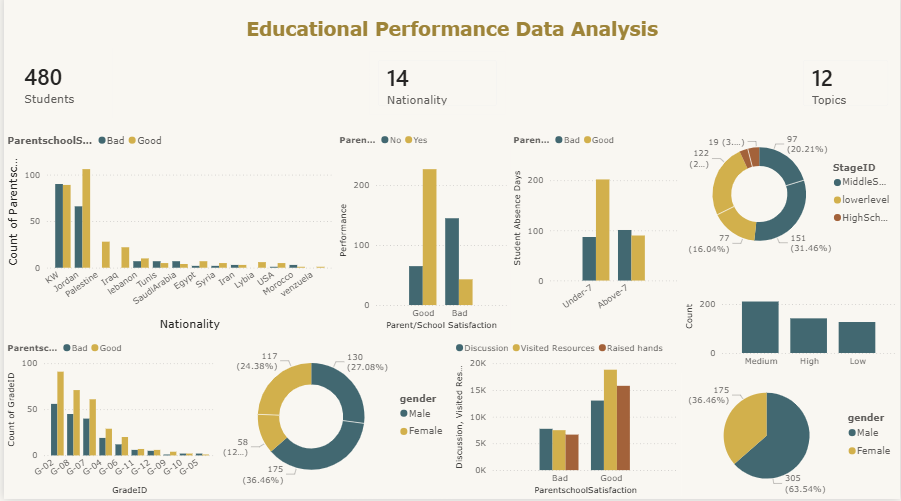

What the dashboard file says about the page in this screenshot:
{"tool":"powerbi","page":{"name":"Page 1","canvas":[1280,720],"ordinal":0},"visuals":[{"type":"clusteredColumnChart","fields":{"Y":["CountNonNull(xAPI-Edu-Data.Class)"],"Category":["xAPI-Edu-Data.Class"]},"box":[968.3,393,311.7,147.6],"z":0},{"type":"textbox","box":[0,26.6,1280.3,48.2],"z":1000},{"type":"cardVisual","fields":{"Data":["CountNonNull(xAPI-Edu-Data.gender)"]},"box":[0,75.3,154.8,100.4],"z":2000},{"type":"pieChart","fields":{"Category":["xAPI-Edu-Data.gender"],"Y":["CountNonNull(xAPI-Edu-Data.gender)"]},"box":[968.3,540.5,311.7,179.1],"z":3000},{"type":"clusteredColumnChart","fields":{"Category":["xAPI-Edu-Data.ParentschoolSatisfaction"],"Y":["select","Sum(xAPI-Edu-Data.Discussion)","Sum(xAPI-Edu-Data.VisITedResources)","Sum(xAPI-Edu-Data.raisedhands)"]},"box":[640,484.1,328.3,235.4],"z":4000},{"type":"donutChart","fields":{"Category":["xAPI-Edu-Data.gender"],"Series":["xAPI-Edu-Data.ParentschoolSatisfaction"],"Y":["CountNonNull(xAPI-Edu-Data.gender)"]},"box":[306.7,484.1,333.3,235.4],"z":5000},{"type":"clusteredColumnChart","fields":{"Category":["xAPI-Edu-Data.NationalITy"],"Y":["CountNonNull(xAPI-Edu-Data.ParentschoolSatisfaction)"],"Series":["xAPI-Edu-Data.ParentschoolSatisfaction"]},"box":[0,187.4,474.2,296.8],"z":6000},{"type":"clusteredColumnChart","title":"student adsence","fields":{"Category":["xAPI-Edu-Data.StudentAbsenceDays"],"Series":["xAPI-Edu-Data.ParentschoolSatisfaction"],"Y":["CountNonNull(xAPI-Edu-Data.StudentAbsenceDays)"]},"box":[722.9,187.4,245.4,296.8],"z":7000},{"type":"clusteredColumnChart","fields":{"Category":["xAPI-Edu-Data.GradeID"],"Y":["CountNonNull(xAPI-Edu-Data.GradeID)"],"Series":["xAPI-Edu-Data.ParentschoolSatisfaction"]},"box":[0,484.1,306.7,235.4],"z":8000},{"type":"donutChart","fields":{"Category":["xAPI-Edu-Data.StageID"],"Y":["CountNonNull(xAPI-Edu-Data.ParentschoolSatisfaction)"],"Series":["xAPI-Edu-Data.ParentschoolSatisfaction"]},"box":[968.3,175.8,311.7,217.2],"z":9000},{"type":"clusteredColumnChart","fields":{"Category":["xAPI-Edu-Data.ParentschoolSatisfaction"],"Series":["xAPI-Edu-Data.ParentAnsweringSurvey"],"Y":["CountNonNull(xAPI-Edu-Data.ParentschoolSatisfaction)"]},"box":[474.2,187.4,248.7,296.8],"z":10000},{"type":"cardVisual","fields":{"Data":["Count(xAPI-Edu-Data.NationalITy)"]},"box":[517.3,75.3,205,100.4],"z":11000},{"type":"cardVisual","fields":{"Data":["Count(xAPI-Edu-Data.Topic)"]},"box":[1123.8,75.3,156.2,100.4],"z":12000}]}

Visuals, with their boxes in screenshot pixels (x1, y1, x2, y2), scaled from the page's 1280x720 canvas onto the 901x501 screenshot:
clusteredColumnChart - CountNonNull(xAPI-Edu-Data.Class) x xAPI-Edu-Data.Class: box(682, 273, 900, 376)
textbox: box(0, 19, 900, 52)
cardVisual - CountNonNull(xAPI-Edu-Data.gender): box(0, 52, 109, 122)
pieChart - xAPI-Edu-Data.gender x CountNonNull(xAPI-Edu-Data.gender): box(682, 376, 900, 500)
clusteredColumnChart - xAPI-Edu-Data.ParentschoolSatisfaction x select: box(450, 337, 682, 500)
donutChart - xAPI-Edu-Data.gender x xAPI-Edu-Data.ParentschoolSatisfaction: box(216, 337, 450, 500)
clusteredColumnChart - xAPI-Edu-Data.NationalITy x CountNonNull(xAPI-Edu-Data.ParentschoolSatisfaction): box(0, 130, 334, 337)
"student adsence" clusteredColumnChart: box(509, 130, 682, 337)
clusteredColumnChart - xAPI-Edu-Data.GradeID x CountNonNull(xAPI-Edu-Data.GradeID): box(0, 337, 216, 500)
donutChart - xAPI-Edu-Data.StageID x CountNonNull(xAPI-Edu-Data.ParentschoolSatisfaction): box(682, 122, 900, 273)
clusteredColumnChart - xAPI-Edu-Data.ParentschoolSatisfaction x xAPI-Edu-Data.ParentAnsweringSurvey: box(334, 130, 509, 337)
cardVisual - Count(xAPI-Edu-Data.NationalITy): box(364, 52, 508, 122)
cardVisual - Count(xAPI-Edu-Data.Topic): box(791, 52, 900, 122)
